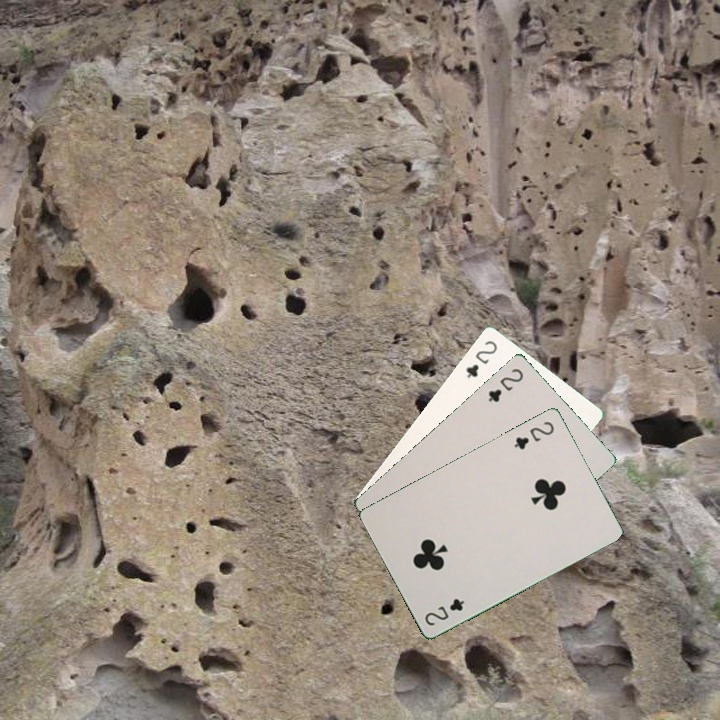2c: (484, 364, 526, 405), (462, 336, 500, 381), (510, 417, 557, 452), (420, 594, 467, 628)
